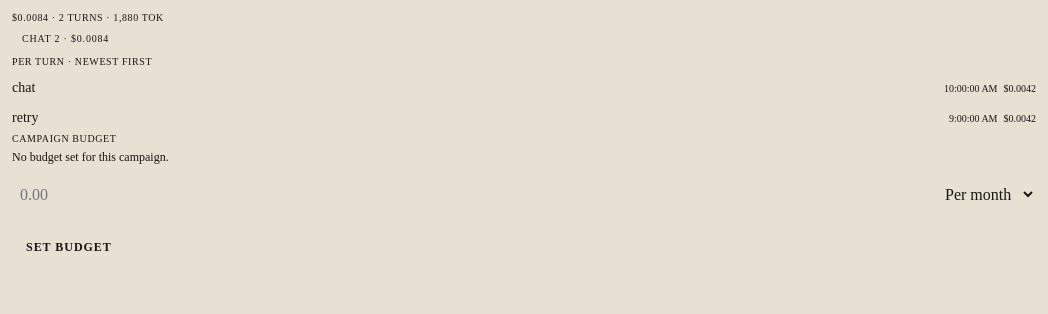
Test: a failed budget write is reported without losing the panel
Type "5" into the number field named "Budget in dollars".
click(468, 194); type("5")  # box [12,177,925,212]
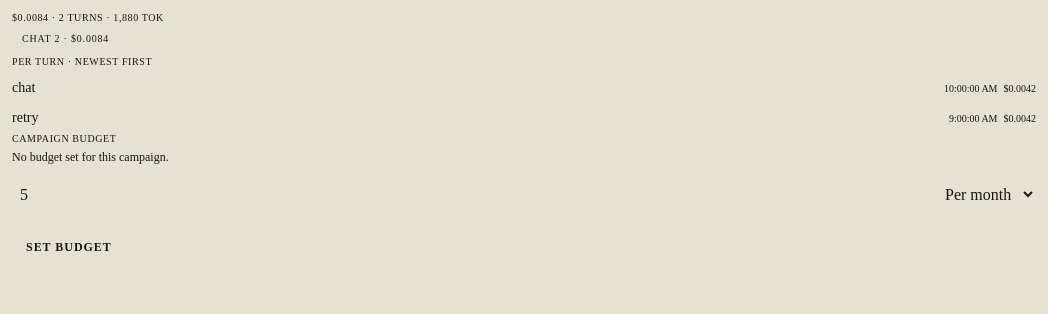
Click the button "Set budget".
click(69, 248)  # box [12,232,126,263]
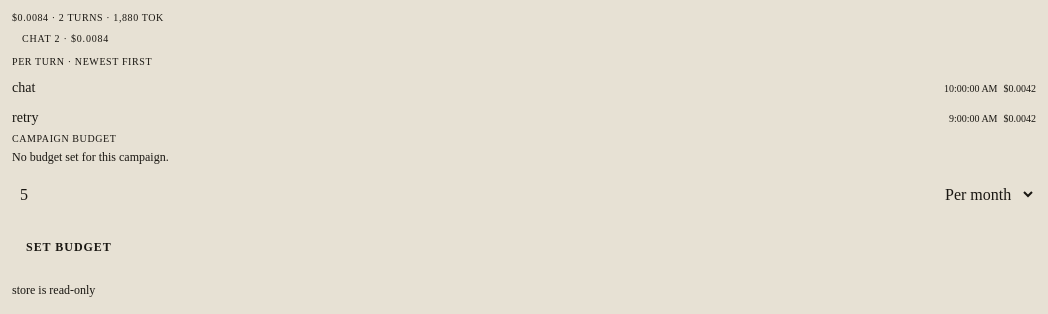
Expected: the text "store is read-only" is shown, [12,283,95,297]
